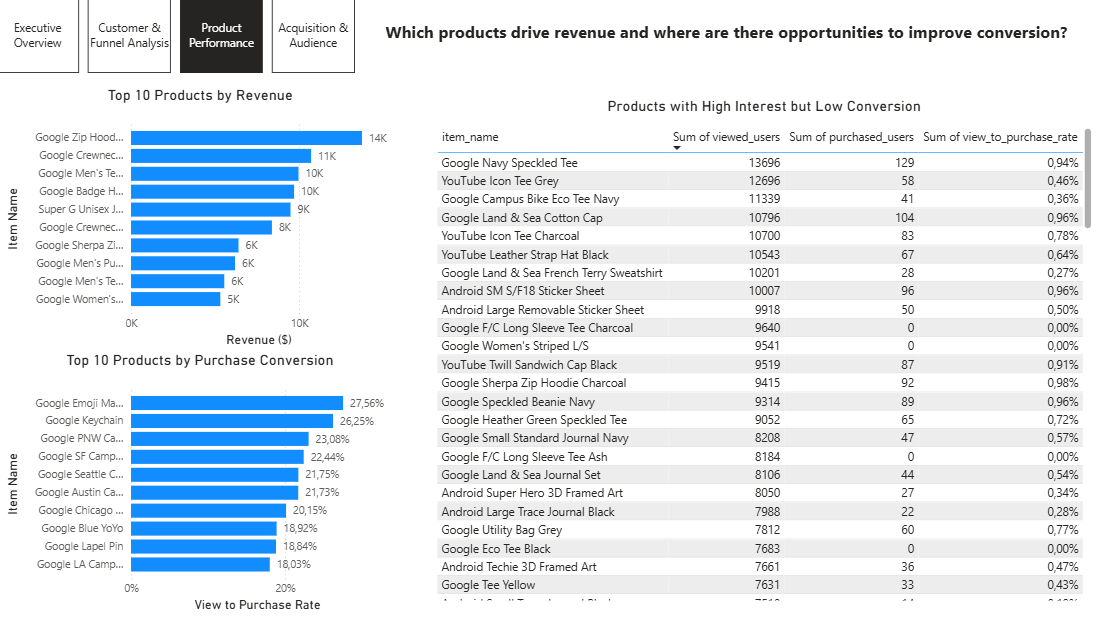

This screenshot's page, from the dashboard's own definition file:
{"tool":"powerbi","page":{"name":"Product Performance","canvas":[1280,720],"ordinal":2},"visuals":[{"type":"barChart","title":"Top 10 Products by Revenue","fields":{"Category":["product_performance.item_name"],"Y":["Sum(product_performance.revenue)"]},"box":[5.7,102.9,455.7,302.9],"z":0},{"type":"clusteredBarChart","title":"Top 10 Products by Purchase Conversion","fields":{"Category":["product_conversion.item_name"],"Y":["Avg(product_conversion.view_to_purchase_rate)"]},"box":[5.7,405.7,455,303.3],"z":1000},{"type":"tableEx","title":"Products with High Interest but Low Conversion","fields":{"Values":["product_conversion.item_name","Sum(product_conversion.viewed_users)","Sum(product_conversion.purchased_users)","Sum(product_conversion.view_to_purchase_rate)"]},"box":[498.6,115.7,758.6,580],"z":2000},{"type":"textbox","box":[440,23.3,815,65],"z":3000},{"type":"pageNavigator","box":[0,0,411.7,88.3],"z":3001}]}

Visuals, with their boxes in screenshot pixels (x1, y1, x2, y2), scaled from the page's 1280x720 canvas onto the 1113x622 screenshot:
"Top 10 Products by Revenue" barChart: 5 89 401 351
"Top 10 Products by Purchase Conversion" clusteredBarChart: 5 350 401 612
"Products with High Interest but Low Conversion" tableEx: 434 100 1093 601
textbox: 383 20 1091 76
pageNavigator: 0 0 358 76
